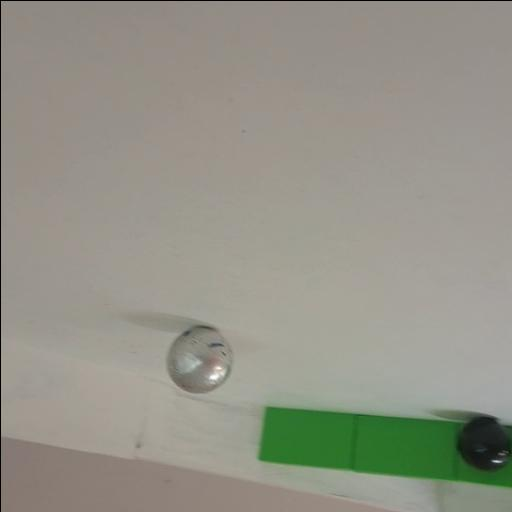alive: (167, 326, 233, 394)
dead: (457, 417, 511, 471)
